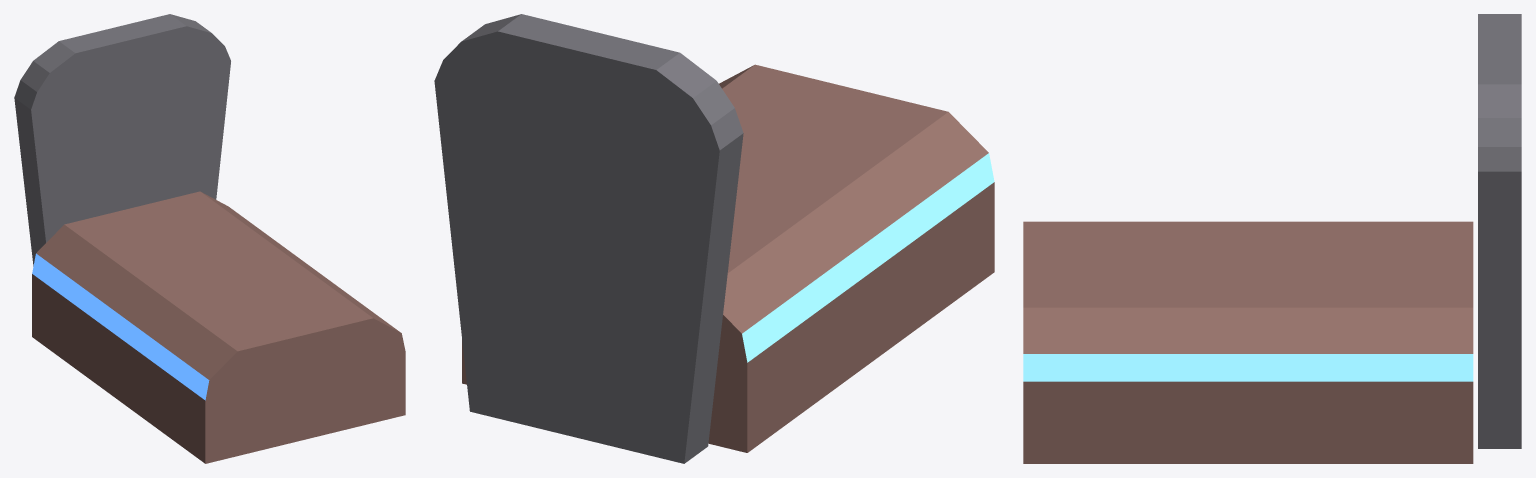
Rendered from tombstone.glb.
The picture shows the model from 3 angles, left to right: view 1: azimuth 30°, elevation 25°; view 2: azimuth 150°, elevation 25°; view 3: azimuth 270°, elevation 25°; orthographic projection. The views are drawn at different scales.
Parts seen in each view (by area): view 1: Cube.001; view 2: Cube.001; view 3: Cube.001.
Boxes of the visible parts, box(x1,y1,x2,y2) form: Cube.001: box(14, 14, 405, 463); Cube.001: box(434, 14, 994, 463); Cube.001: box(1023, 14, 1521, 463).
Bounding box in the file's own units: 2.01 × 2.59 × 3.32.
